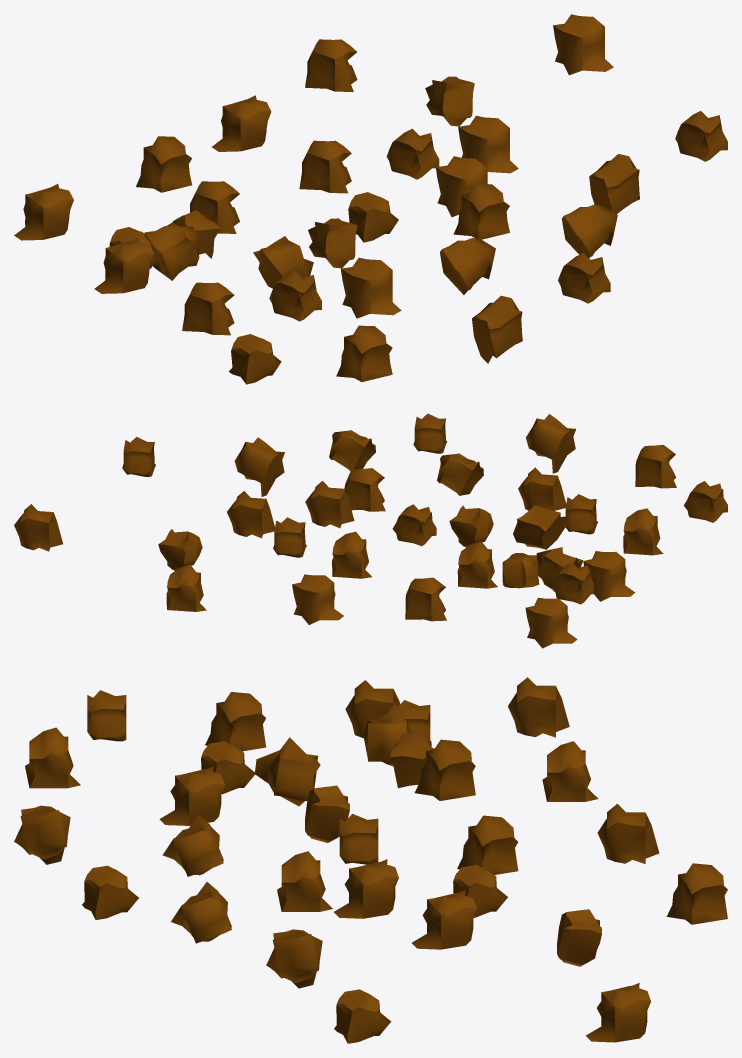
File: stones.fbx
The picture shows the model from 3 angles, top to bottom: view 1: azimuth 30°, elevation 25°; view 2: azimuth 150°, elevation 25°; view 3: azimuth 270°, elevation 25°; orthographic projection. The views are drawn at different scales.
Visible parts, largest first — view 1: smasten; view 2: smasten; view 3: smasten.
Part boxes in pixels (x1=…): smasten: x1=14, y1=14, x2=727, y2=384; smasten: x1=14, y1=413, x2=727, y2=648; smasten: x1=14, y1=677, x2=727, y2=1043.
Size of the model in its own units: 70.8 by 7.74 by 64.58.
